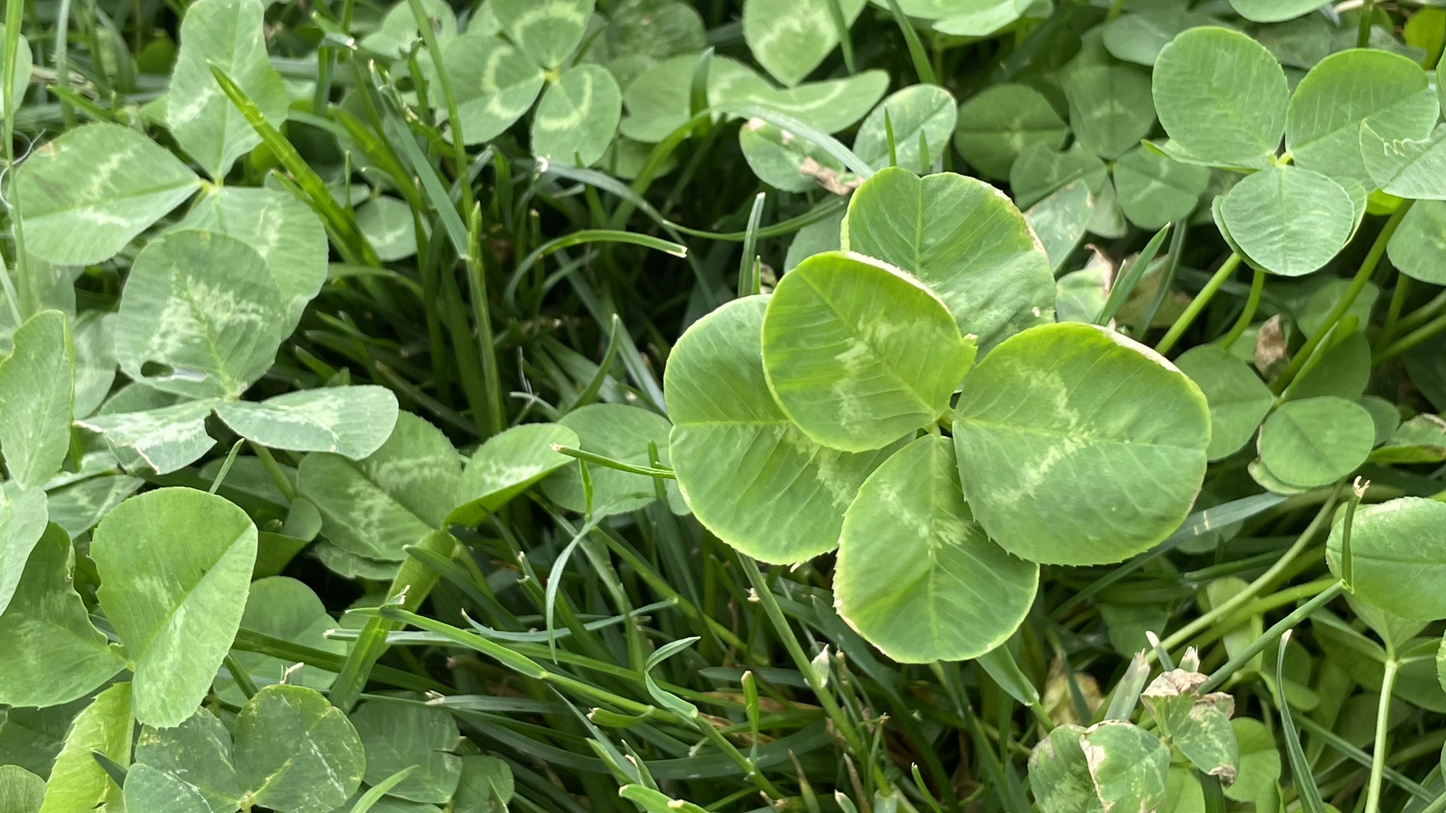5-Leaf-Clovers: (667, 166, 1213, 665)
